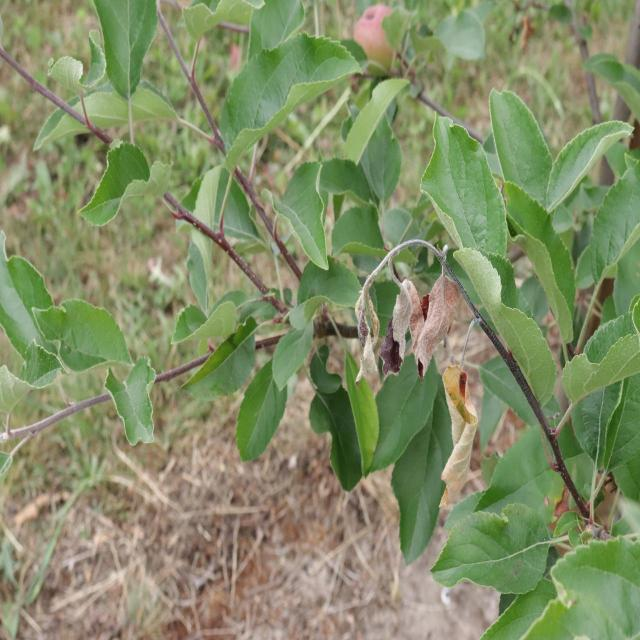-FireBlight-: (354, 261, 499, 513)
